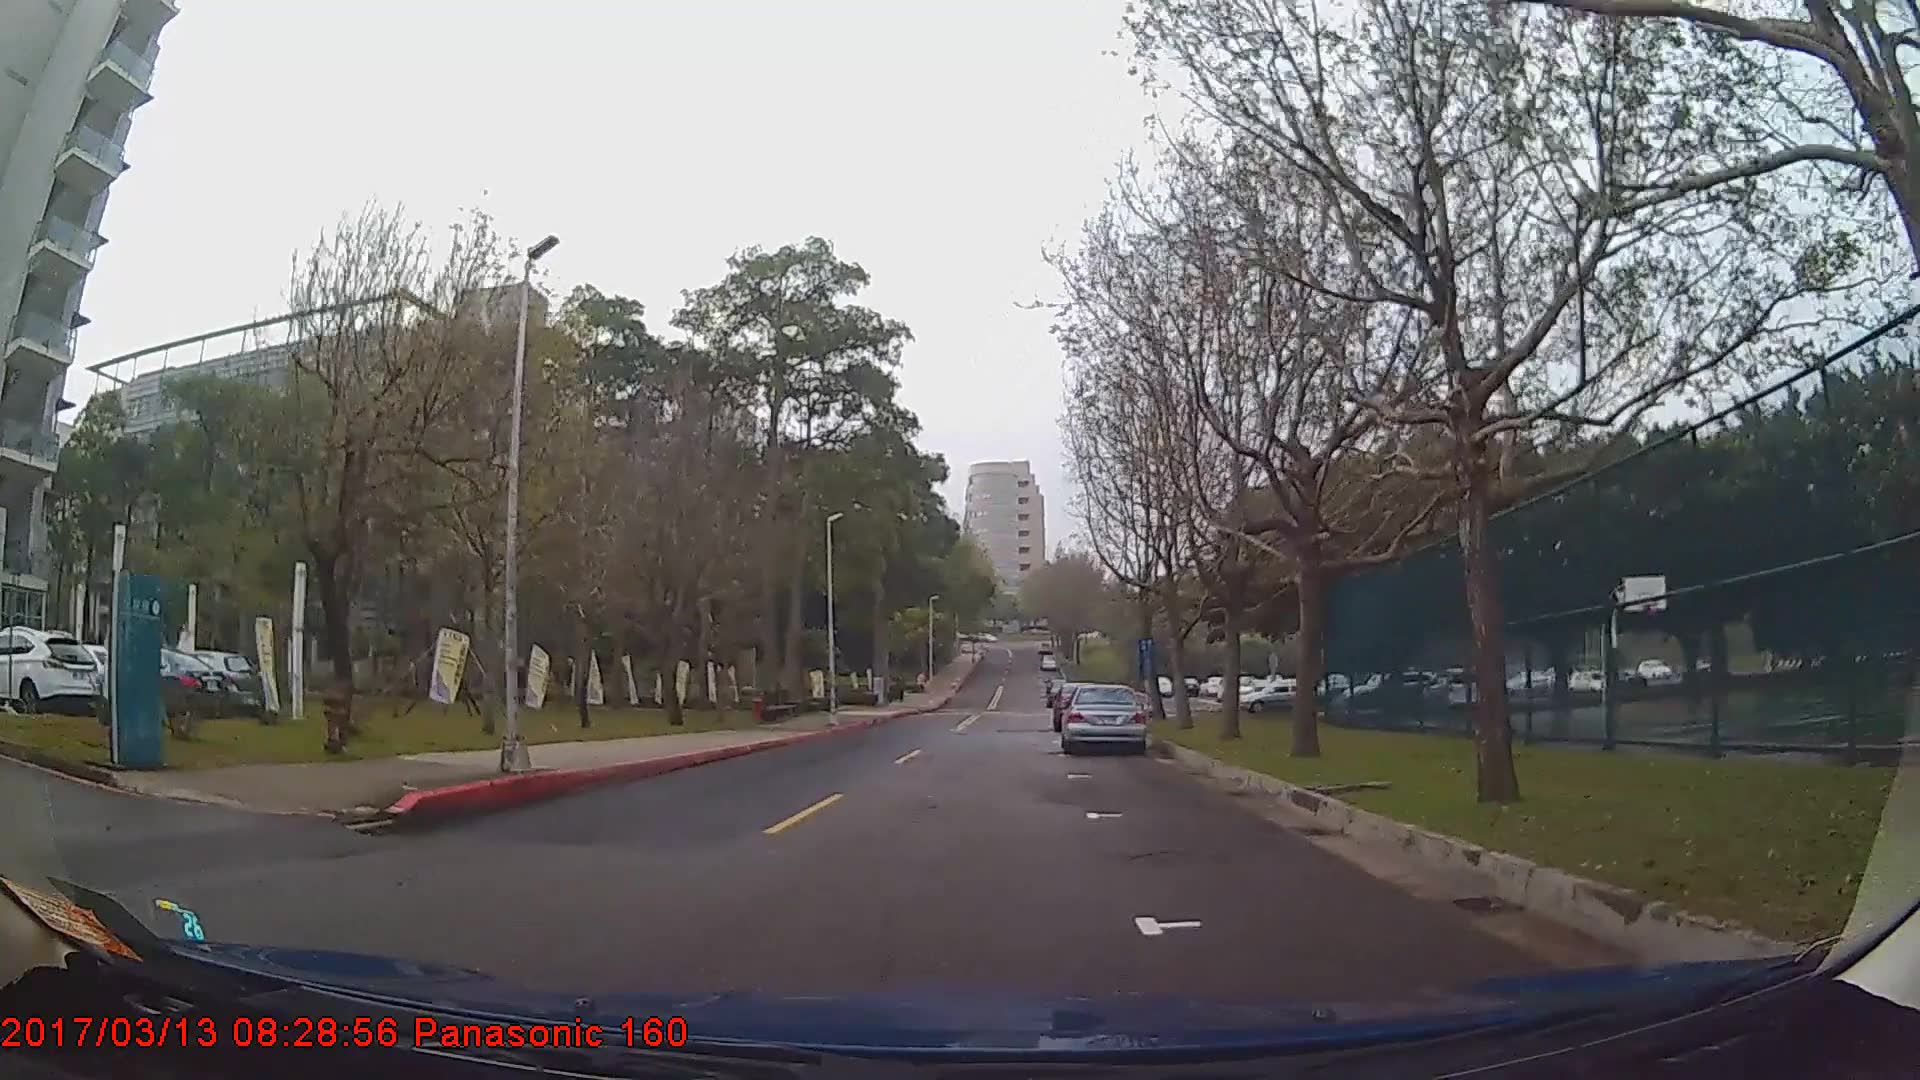vehicle: (86, 644, 225, 719), (0, 622, 100, 713), (1060, 682, 1149, 756), (177, 647, 260, 713), (1237, 679, 1324, 713)
